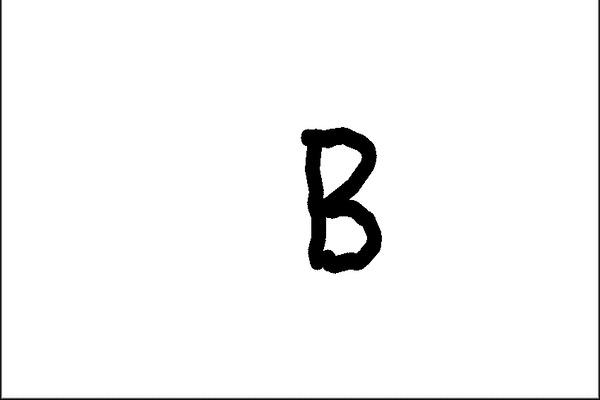B: (289, 115, 394, 279)
